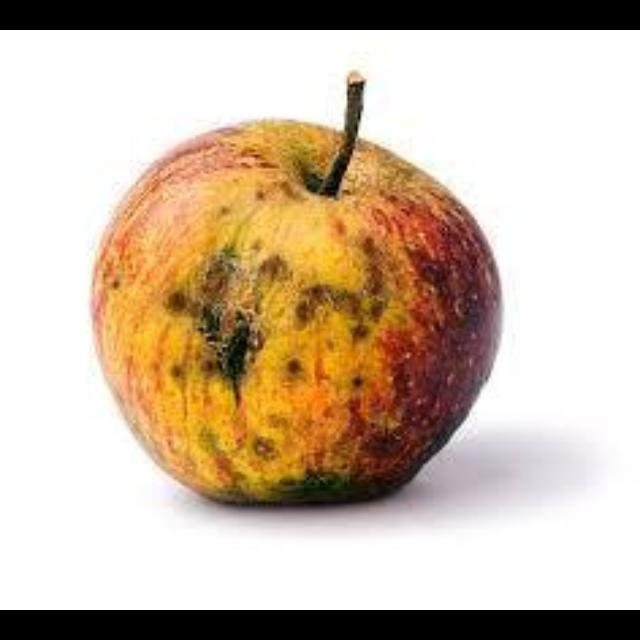apple: (92, 73, 499, 502)
rotten: (92, 73, 499, 499)
